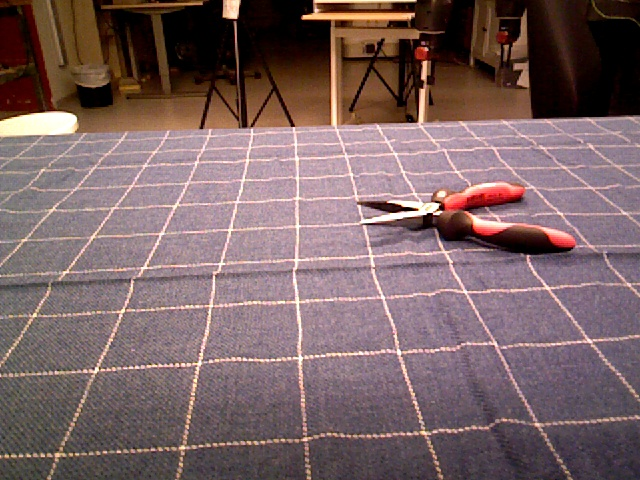plier1: (354, 180, 578, 255)
